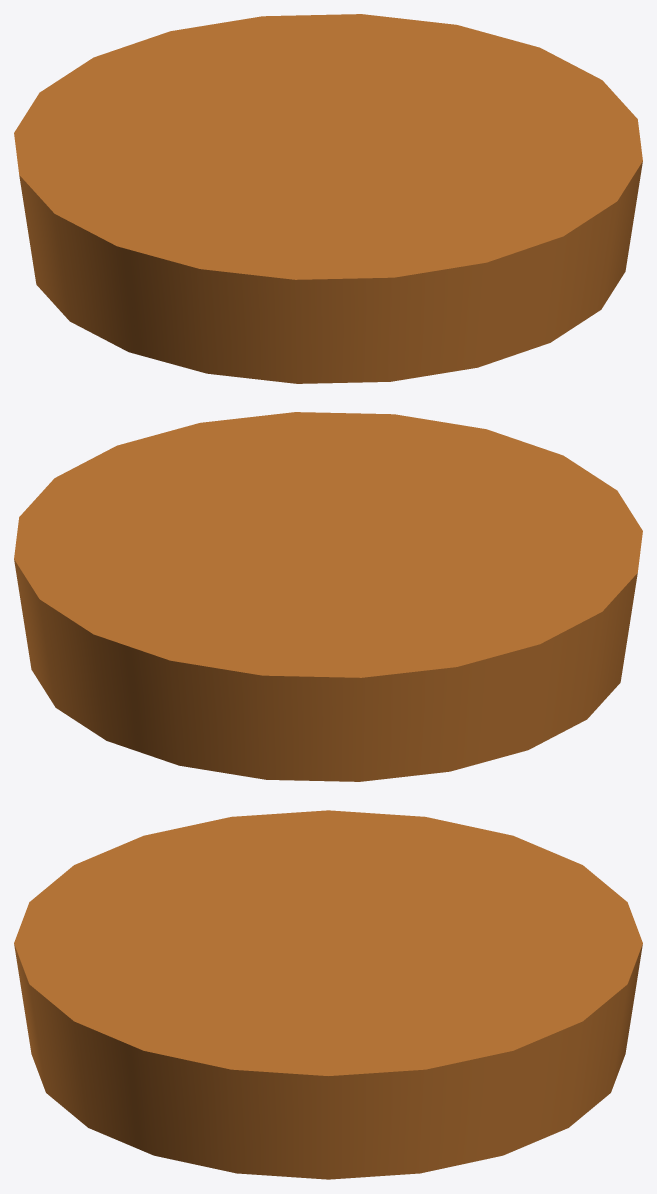
Rendered from bun-base.glb.
3 renders of one model, top to bottom at view 1: azimuth 30°, elevation 25°; view 2: azimuth 150°, elevation 25°; view 3: azimuth 270°, elevation 25°, orthographic.
Parts seen in each view (by area): view 1: bun-base; view 2: bun-base; view 3: bun-base.
Boxes of the visible parts, box(x1,y1,x2,y2) form: bun-base: box(14, 14, 642, 383); bun-base: box(14, 412, 642, 781); bun-base: box(14, 810, 642, 1179).
Size of the model in its own units: 0.54 by 0.105 by 0.54.
